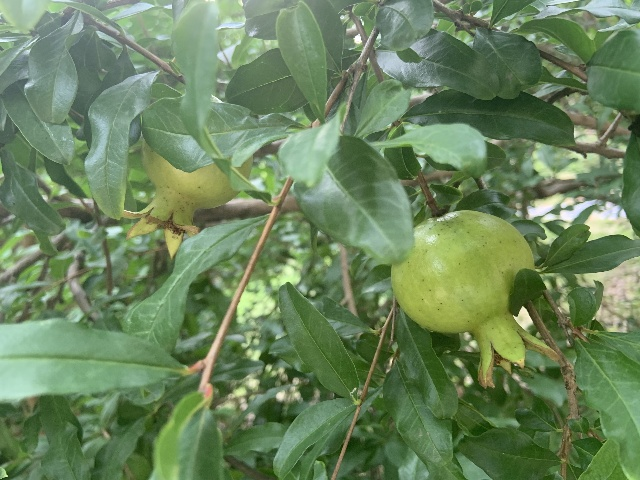mid-growth: (391, 209, 560, 390), (122, 138, 252, 261)
